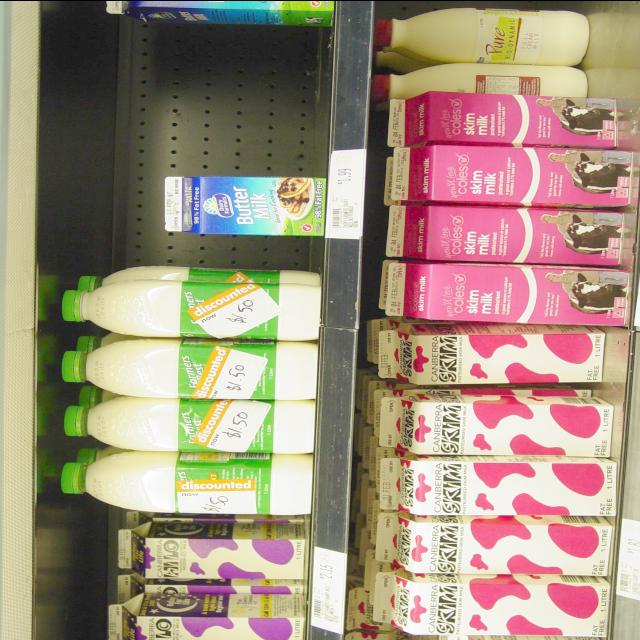empty_space: (83, 36, 321, 156), (110, 240, 307, 262), (596, 0, 634, 83)
